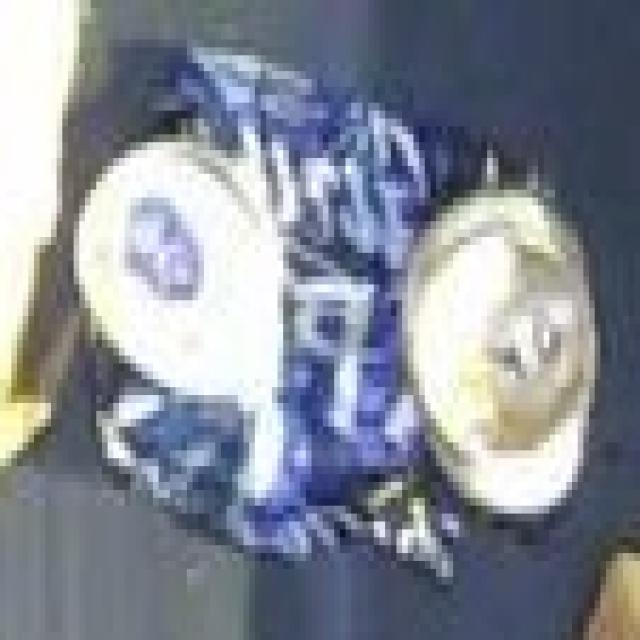can: (83, 33, 578, 524)
